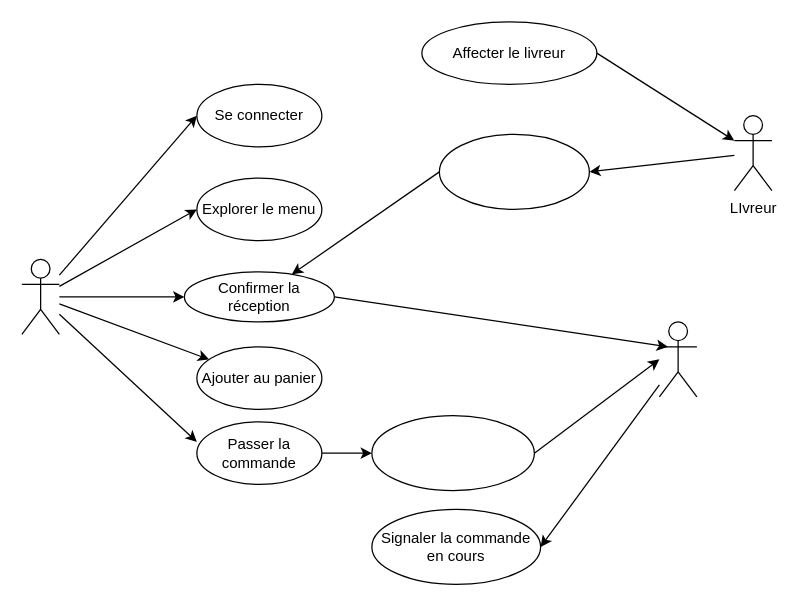
This 798x606 diagram has some shape labels left out. Here are the shapes that lost their labels. From the top down, the centre of each, then its label:
At (x=513, y=171): "Signaler livraison effectuée".
At (x=40, y=296): "Client".
At (x=677, y=359): "Restaurant".
At (x=452, y=452): "Notifier le restaurant".
